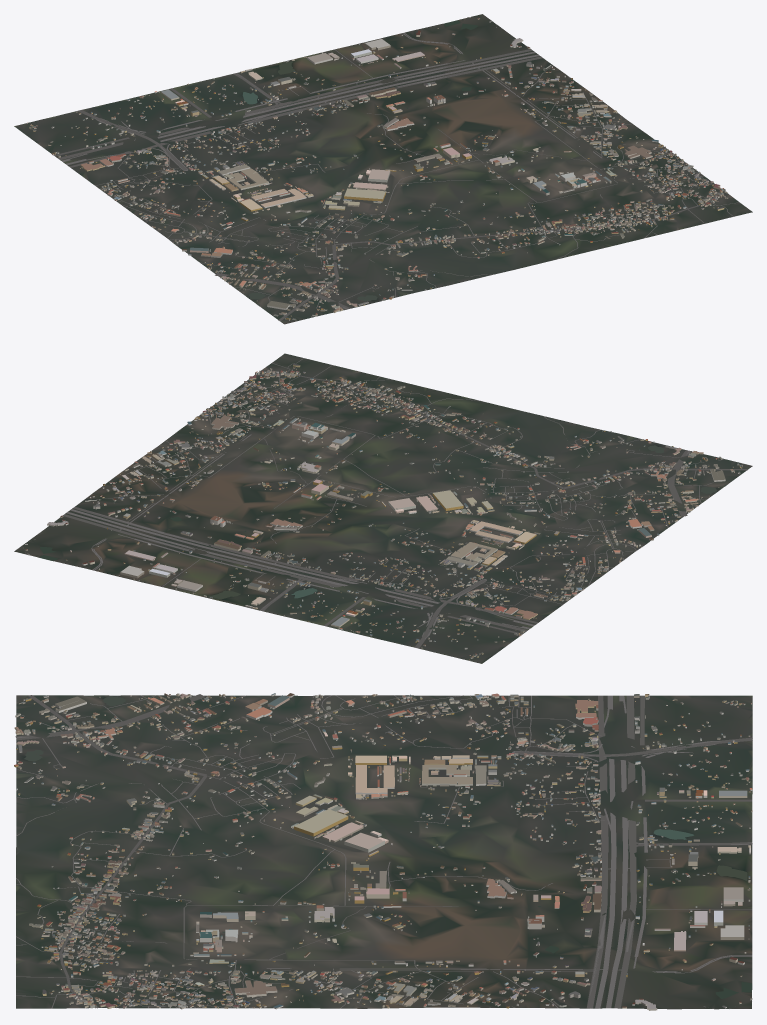
The picture shows the model from 3 angles, top to bottom: view 1: azimuth 30°, elevation 25°; view 2: azimuth 150°, elevation 25°; view 3: azimuth 270°, elevation 25°; orthographic projection. The views are drawn at different scales.
Visible parts, largest first — view 1: ground, buildings, roads, water; view 2: ground, buildings, roads, water; view 3: ground, buildings, roads, water.
Boxes of the visible parts, <box> form: ground: <box>14,14,752,324</box>; buildings: <box>26,17,728,320</box>; roads: <box>54,24,739,320</box>; water: <box>242,20,563,305</box>; ground: <box>14,353,752,663</box>; buildings: <box>24,363,742,660</box>; roads: <box>23,358,747,648</box>; water: <box>40,435,727,599</box>; ground: <box>16,695,752,1009</box>; buildings: <box>14,693,752,1010</box>; roads: <box>15,694,752,1008</box>; water: <box>24,695,751,998</box>.
Bounding box in the file's own units: 2832 × 31.29 × 2814.
